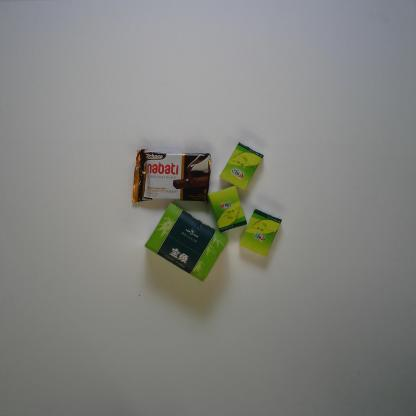Dessert: (132, 147, 212, 206)
Tissue: (144, 202, 230, 284), (218, 141, 264, 190), (239, 207, 283, 258), (207, 185, 249, 233)
